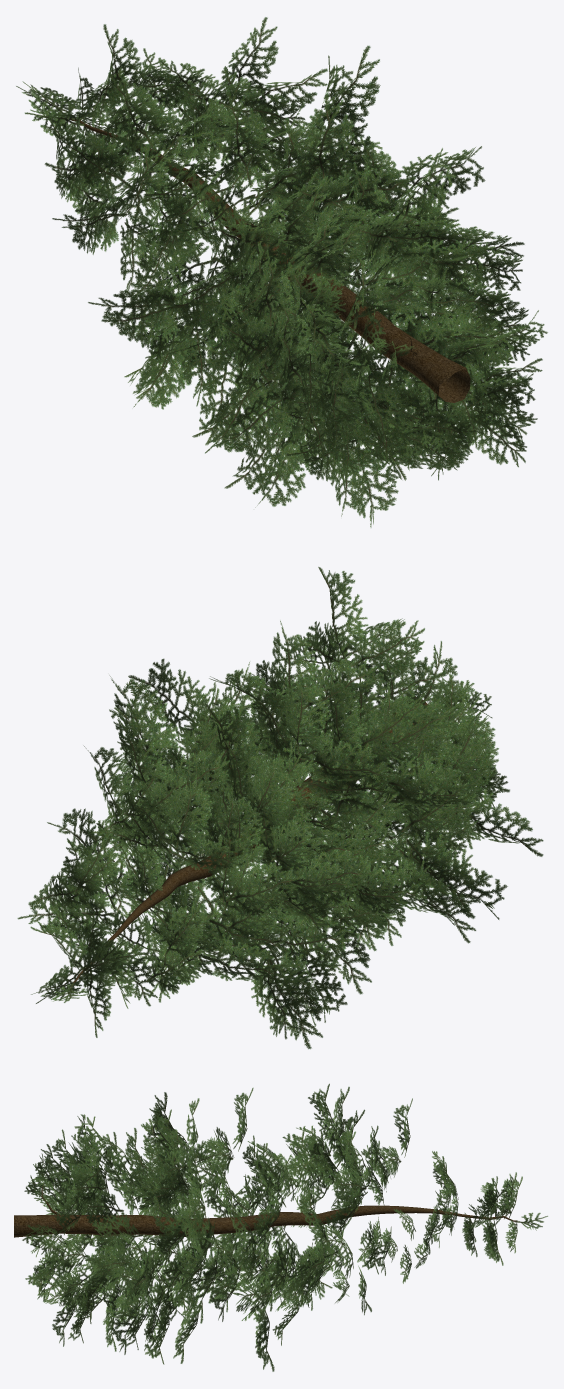
Rendered from spruce_lod2.glb.
3 views of the same model, one above another, from view 1: azimuth 30°, elevation 25°; view 2: azimuth 150°, elevation 25°; view 3: azimuth 270°, elevation 25° (orthographic). The views are drawn at different scales.
Parts seen in each view (by area): view 1: Christmas tree_LOD2; view 2: Christmas tree_LOD2; view 3: Christmas tree_LOD2.
Boxes of the visible parts, x1,y1,x2,y2 form: Christmas tree_LOD2: (16,17,547,527); Christmas tree_LOD2: (17,567,543,1049); Christmas tree_LOD2: (14,1083,547,1371).
Bounding box in the file's own units: 5.23 × 5.04 × 9.32.
2 materials, 2 textured.
